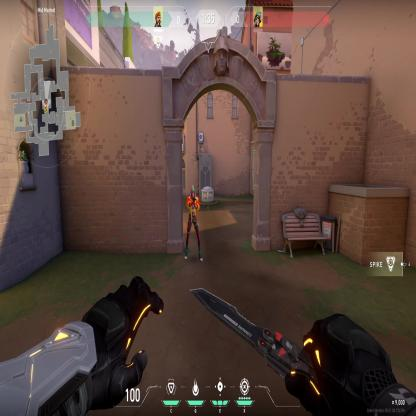enemy: (181, 181, 204, 264)
